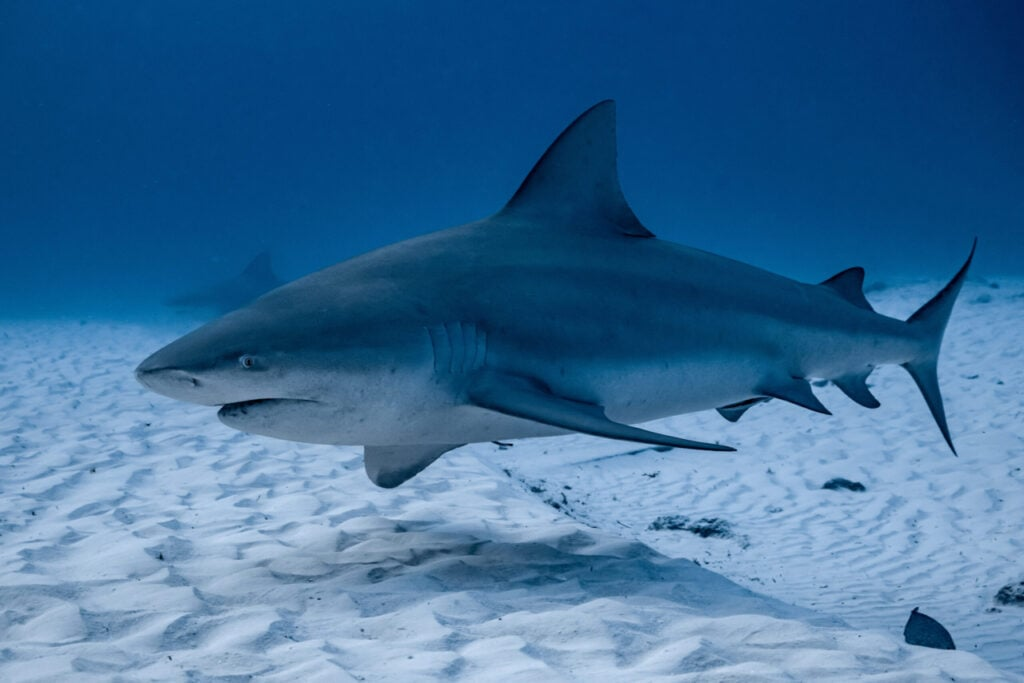Shark: (136, 97, 973, 489)
